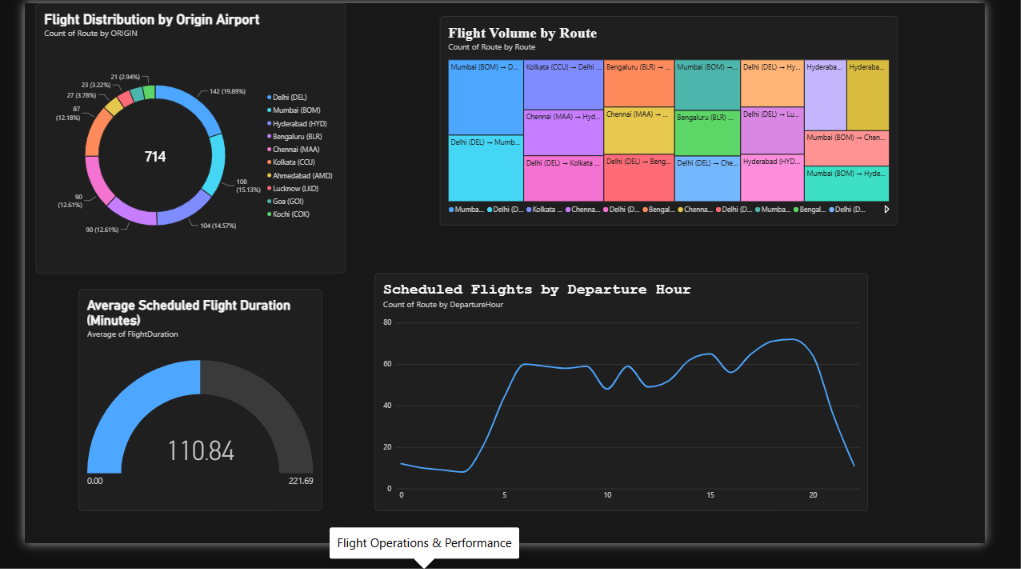

Layout of this report page (visuals, bound fields, positions):
{"tool":"powerbi","page":{"name":"Flight Operations & Performance","canvas":[1920,1080],"ordinal":2},"visuals":[{"type":"donutChart","title":"Flight Distribution by Origin Airport","fields":{"Category":["indigo_database flight_data.ORIGIN"],"Y":["CountNonNull(indigo_database flight_data.Route)"]},"box":[22,0,620,540],"z":0},{"type":"lineChart","title":"Scheduled Flights by Departure Hour","fields":{"Category":["indigo_database flight_data.DepartureHour"],"Y":["CountNonNull(indigo_database flight_data.Route)"]},"box":[700,540,986,476],"z":1},{"type":"treemap","title":"Flight Volume by Route","fields":{"Group":["indigo_database flight_data.Route"],"Values":["CountNonNull(indigo_database flight_data.Route)"]},"box":[830,26,916,418],"z":2},{"type":"gauge","title":"Average Scheduled Flight Duration (Minutes)","fields":{"Y":["Avg(indigo_database flight_data.FlightDuration)"]},"box":[108,572,486,444],"z":3}]}

Visuals, with their boxes in screenshot pixels (x1, y1, x2, y2), scaled from the page's 1920x1080 canvas onto the 1021x569 screenshot:
"Flight Distribution by Origin Airport" donutChart: [left=12, top=0, right=341, bottom=284]
"Scheduled Flights by Departure Hour" lineChart: [left=372, top=284, right=897, bottom=535]
"Flight Volume by Route" treemap: [left=441, top=14, right=928, bottom=234]
"Average Scheduled Flight Duration (Minutes)" gauge: [left=57, top=301, right=316, bottom=535]
